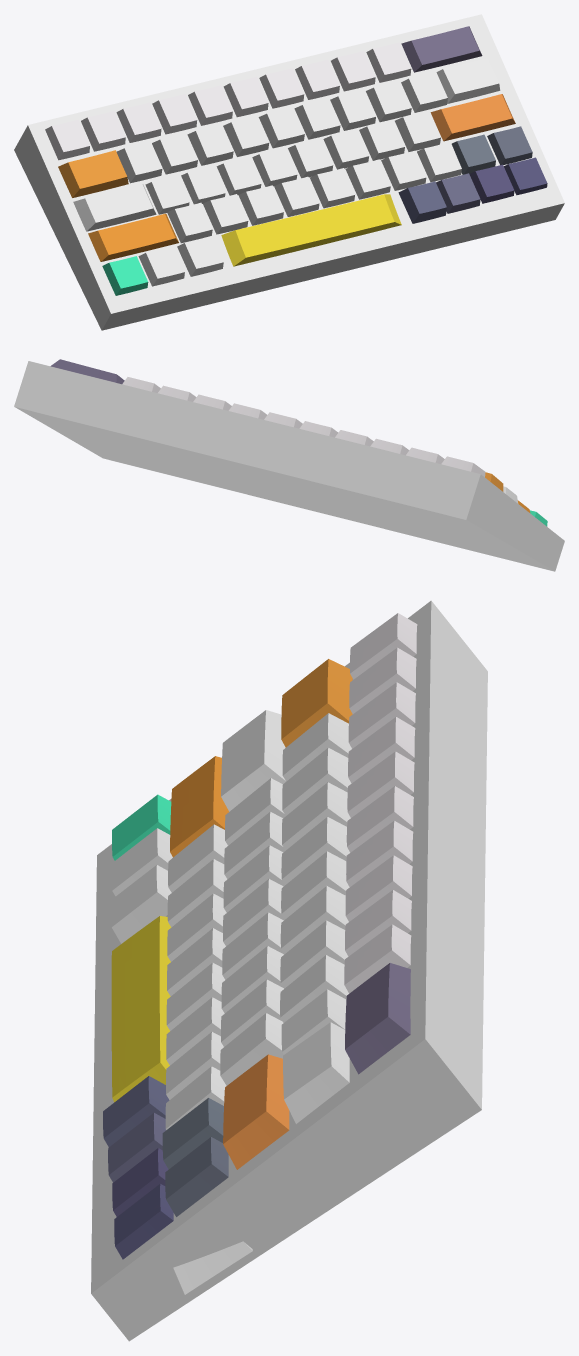
File: kkb.glb
3 views of the same model, one above another, from view 1: azimuth 30°, elevation 25°; view 2: azimuth 150°, elevation 25°; view 3: azimuth 270°, elevation 25° (orthographic). The views are drawn at different scales.
Parts seen in each view (by area): view 1: Plane, Plane.001, Plane.004, Plane.014, Plane.013, Plane.007, Plane.009, Plane.006, Plane.008, Plane.016, Plane.002, Plane.005 (+10 smaller); view 2: Plane, Plane.001, Plane.016; view 3: Plane, Plane.001, Plane.004, Plane.013, Plane.014, Plane.007, Plane.006, Plane.016, Plane.005, Plane.008, Plane.002, Plane.009 (+11 smaller).
Boxes of the visible parts, left/top/right/bottom form: Plane: left=14, top=14, right=564, bottom=330; Plane.001: left=45, top=42, right=411, bottom=160; Plane.004: left=116, top=81, right=411, bottom=183; Plane.014: left=167, top=142, right=461, bottom=243; Plane.013: left=145, top=110, right=440, bottom=214; Plane.007: left=221, top=194, right=401, bottom=266; Plane.009: left=88, top=213, right=178, bottom=261; Plane.006: left=430, top=94, right=515, bottom=141; Plane.008: left=73, top=184, right=156, bottom=231; Plane.016: left=401, top=26, right=482, bottom=72; Plane.002: left=58, top=150, right=128, bottom=197; Plane.005: left=436, top=58, right=500, bottom=103; Plane: left=14, top=361, right=564, bottom=571; Plane.001: left=122, top=377, right=485, bottom=477; Plane.016: left=50, top=359, right=124, bottom=384; Plane: left=91, top=600, right=487, bottom=1341; Plane.001: left=344, top=613, right=417, bottom=993; Plane.004: left=280, top=713, right=351, bottom=1022; Plane.013: left=220, top=778, right=285, bottom=1085; Plane.014: left=165, top=824, right=227, bottom=1129; Plane.007: left=111, top=916, right=171, bottom=1102; Plane.006: left=223, top=1054, right=289, bottom=1169; Plane.016: left=345, top=963, right=410, bottom=1074; Plane.005: left=283, top=1022, right=349, bottom=1123; Plane.008: left=221, top=710, right=285, bottom=811; Plane.002: left=281, top=659, right=352, bottom=747; Plane.009: left=170, top=756, right=228, bottom=857.
Bounding box in the file's own units: 5 × 1.6 × 1.87.
